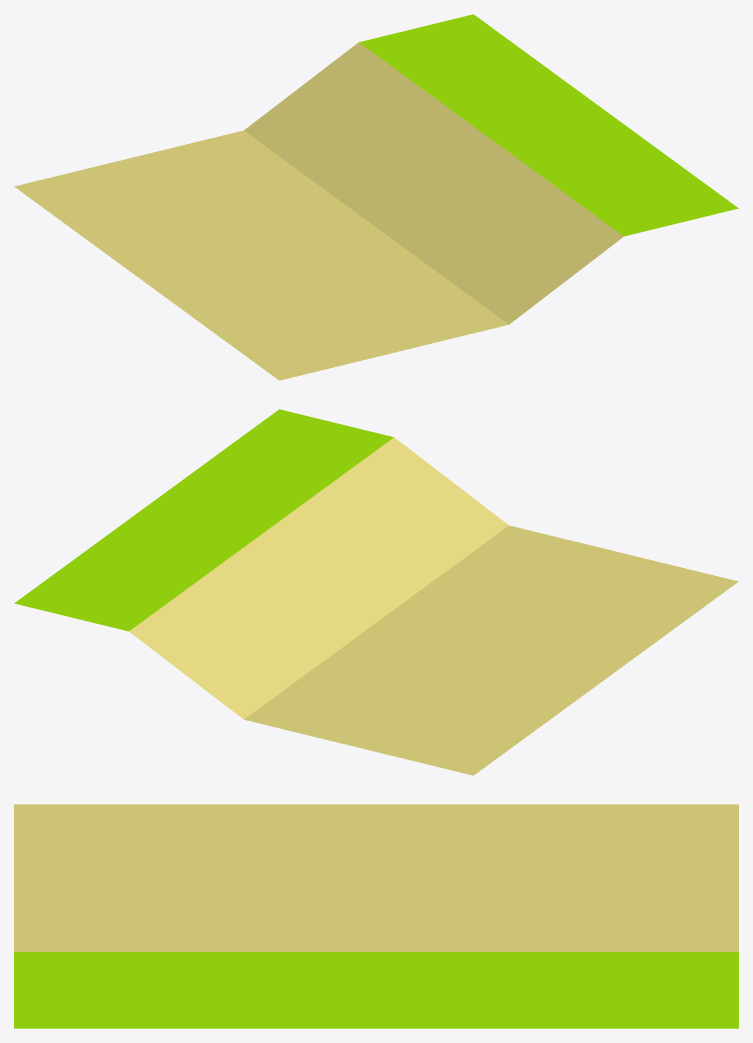
3 views of the same model, one above another, from view 1: azimuth 30°, elevation 25°; view 2: azimuth 150°, elevation 25°; view 3: azimuth 270°, elevation 25° (orthographic). The views are drawn at different scales.
Parts seen in each view (by area): view 1: I; view 2: I; view 3: I.
Part boxes in pixels (box(x1,y1,x2,y2)): I: box(14, 14, 738, 380); I: box(14, 409, 738, 775); I: box(14, 804, 738, 1028).
Bounding box in the file's own units: 200 × 25 × 200.
